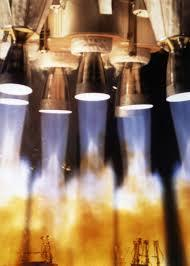thruster: (72, 52, 116, 103), (114, 65, 156, 113), (0, 43, 35, 99), (38, 69, 75, 116), (163, 54, 190, 106), (0, 90, 33, 108)
